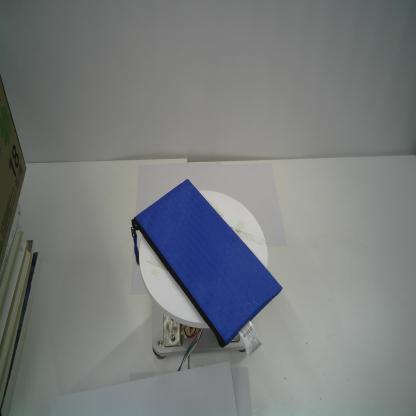Stationery: (131, 178, 283, 348)
